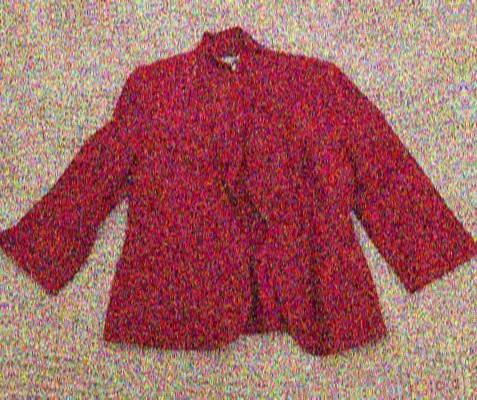Blazer: (0, 17, 461, 375), (0, 64, 9, 400)
